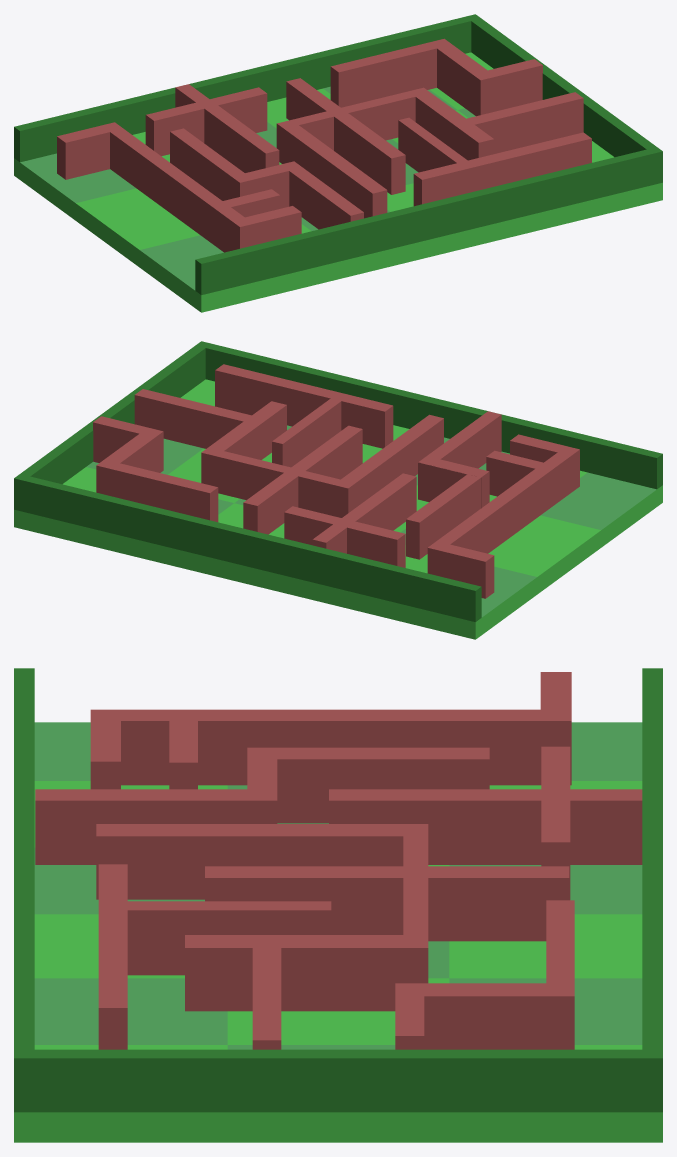
The model's file is maze02.fbx.
3 views of the same model, one above another, from view 1: azimuth 30°, elevation 25°; view 2: azimuth 150°, elevation 25°; view 3: azimuth 270°, elevation 25° (orthographic). The views are drawn at different scales.
Parts seen in each view (by area): view 1: pasted__pasted__pCube7, pCube9, pasted__pCube11 (×2), pCube8, pCube10, pCube11, pasted__pasted__pCube11; view 2: pasted__pasted__pCube7, pCube9, pasted__pCube11 (×2), pCube10, pCube8, pasted__pasted__pCube11, pCube11; view 3: pasted__pasted__pCube7, pCube9, pasted__pCube11 (×2), pCube10, pCube8, pasted__pasted__pCube11, pCube11.
Boxes of the visible parts, left/top/right/bottom form: pasted__pasted__pCube7: left=14, top=14, right=662, bottom=312; pCube9: left=276, top=78, right=583, bottom=218; pasted__pCube11 (×2): left=57, top=84, right=301, bottom=252; pCube8: left=330, top=38, right=542, bottom=116; pCube10: left=398, top=117, right=591, bottom=206; pCube11: left=231, top=161, right=363, bottom=229; pasted__pasted__pCube11: left=170, top=128, right=293, bottom=200; pasted__pasted__pCube7: left=14, top=341, right=662, bottom=639; pCube9: left=134, top=389, right=443, bottom=534; pasted__pCube11 (×2): left=284, top=434, right=579, bottom=598; pCube10: left=215, top=364, right=393, bottom=467; pCube8: left=93, top=416, right=218, bottom=522; pasted__pasted__pCube11: left=406, top=462, right=480, bottom=559; pCube11: left=418, top=411, right=501, bottom=508; pasted__pasted__pCube7: left=14, top=668, right=662, bottom=1142; pCube9: left=96, top=824, right=569, bottom=1049; pasted__pCube11 (×2): left=90, top=672, right=642, bottom=900; pCube10: left=98, top=864, right=331, bottom=1049; pCube8: left=395, top=900, right=574, bottom=1049; pasted__pasted__pCube11: left=248, top=747, right=489, bottom=823; pCube11: left=35, top=747, right=276, bottom=864.
Bounding box in the file's own units: 22.4 × 2.64 × 15.75.
